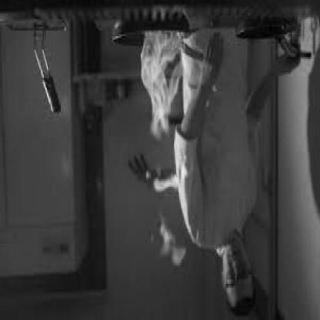Fire: (150, 149, 194, 202)
